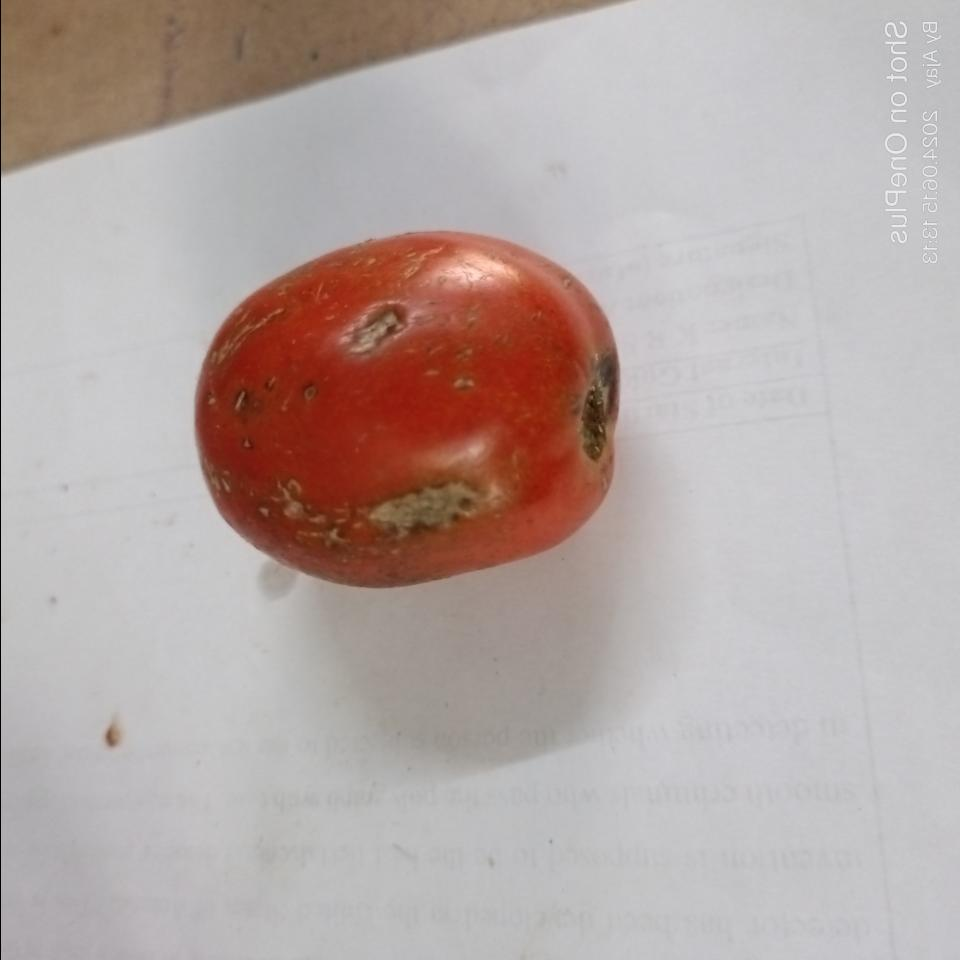Bacterial_Spot: (344, 482, 489, 538), (326, 308, 416, 355), (230, 384, 258, 420)
